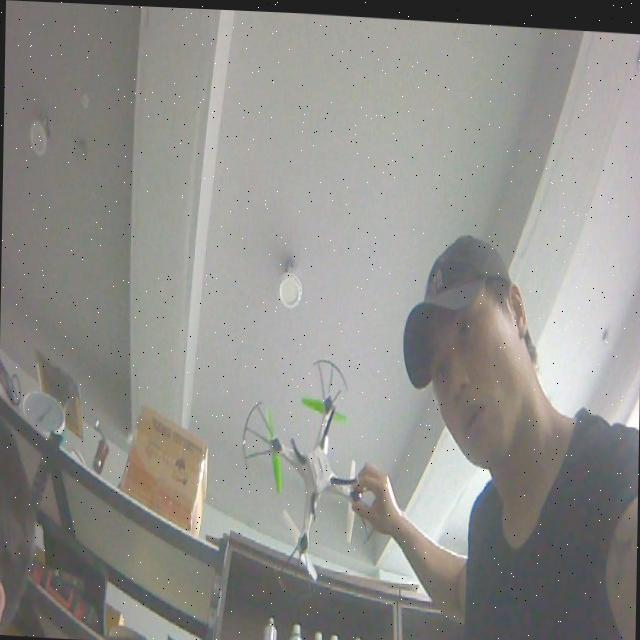drone: (239, 347, 384, 602)
